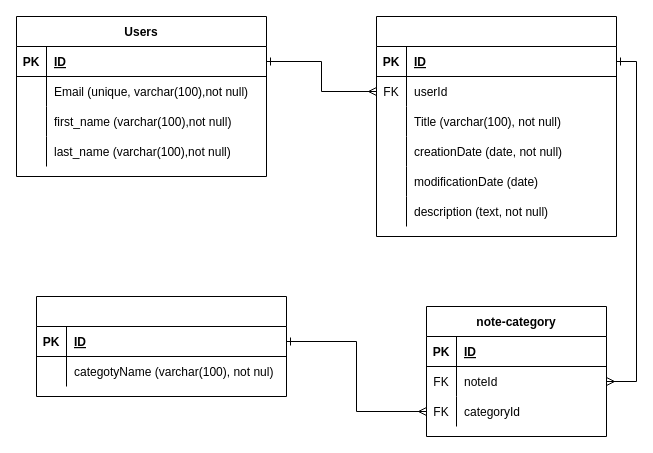
Some shapes in this 653 by 453 pixel diagram are drawn without their labels. Here are the shapes that lost their labels. From the top down, the box of each, then its label:
(376, 16, 616, 236): Notes
(36, 296, 286, 396): category
